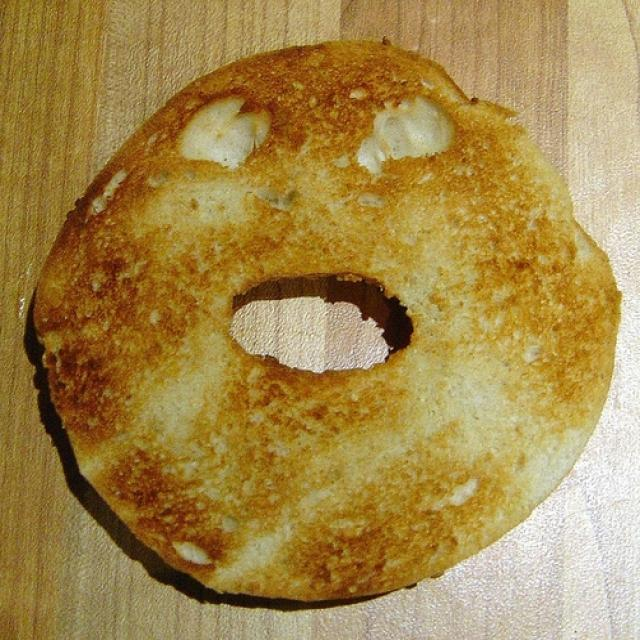面包点心: (15, 26, 616, 608)
